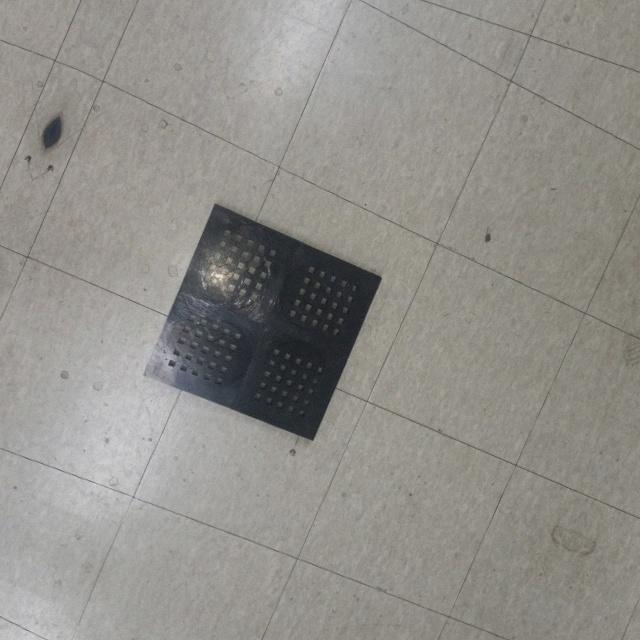pallet: (135, 196, 389, 450)
